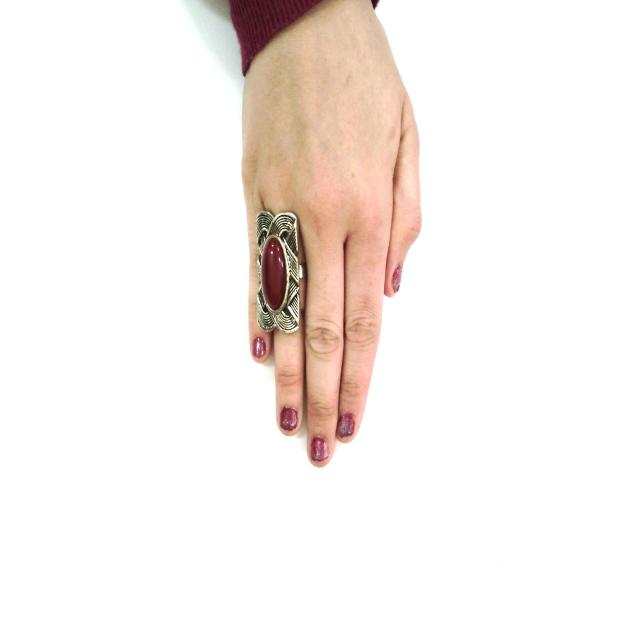Nail: (309, 434, 329, 463), (337, 411, 356, 440), (279, 405, 298, 432), (252, 336, 267, 360), (391, 264, 403, 294)
